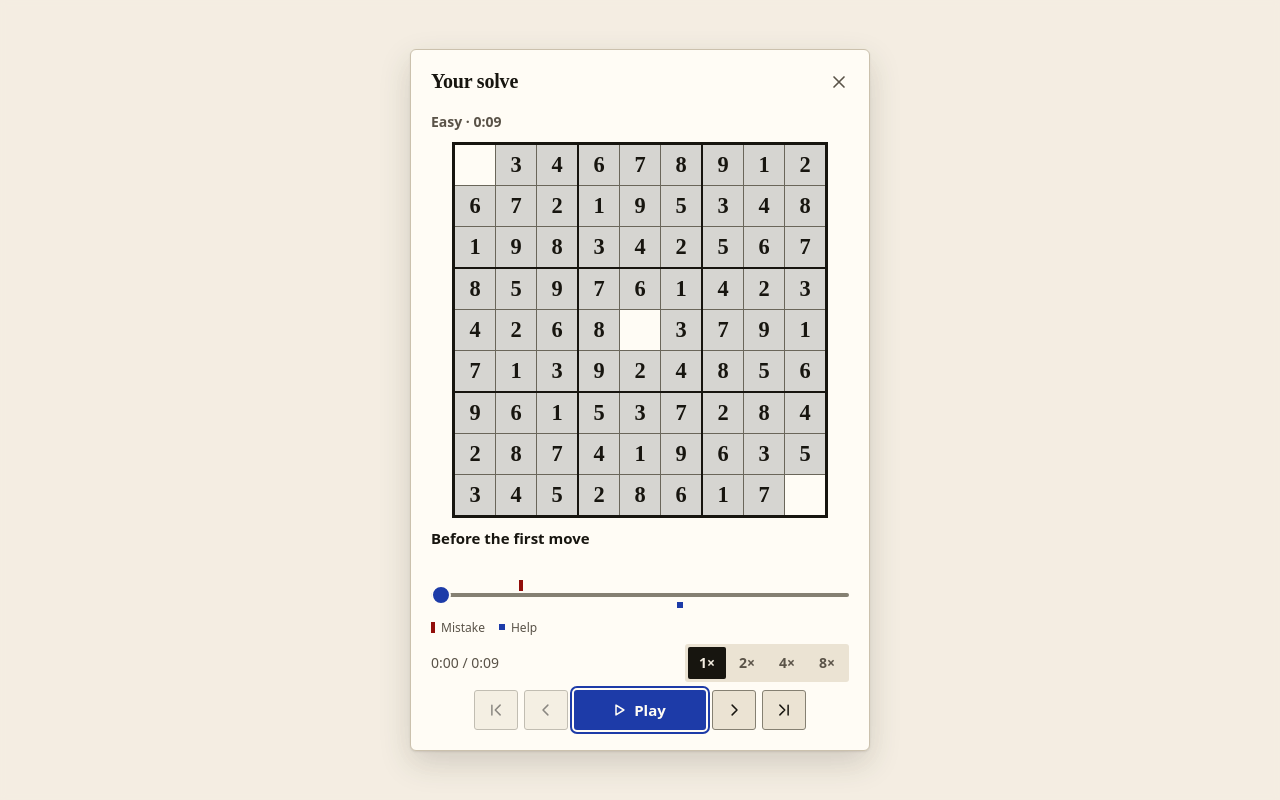
Test case: PlaybackDialog › tells the scrubber’s place as the move and its time
The width and height of the screenshot is (1280, 800).
Set the slider named "Move" to "3" at (680,595), box [431,577,849,613]
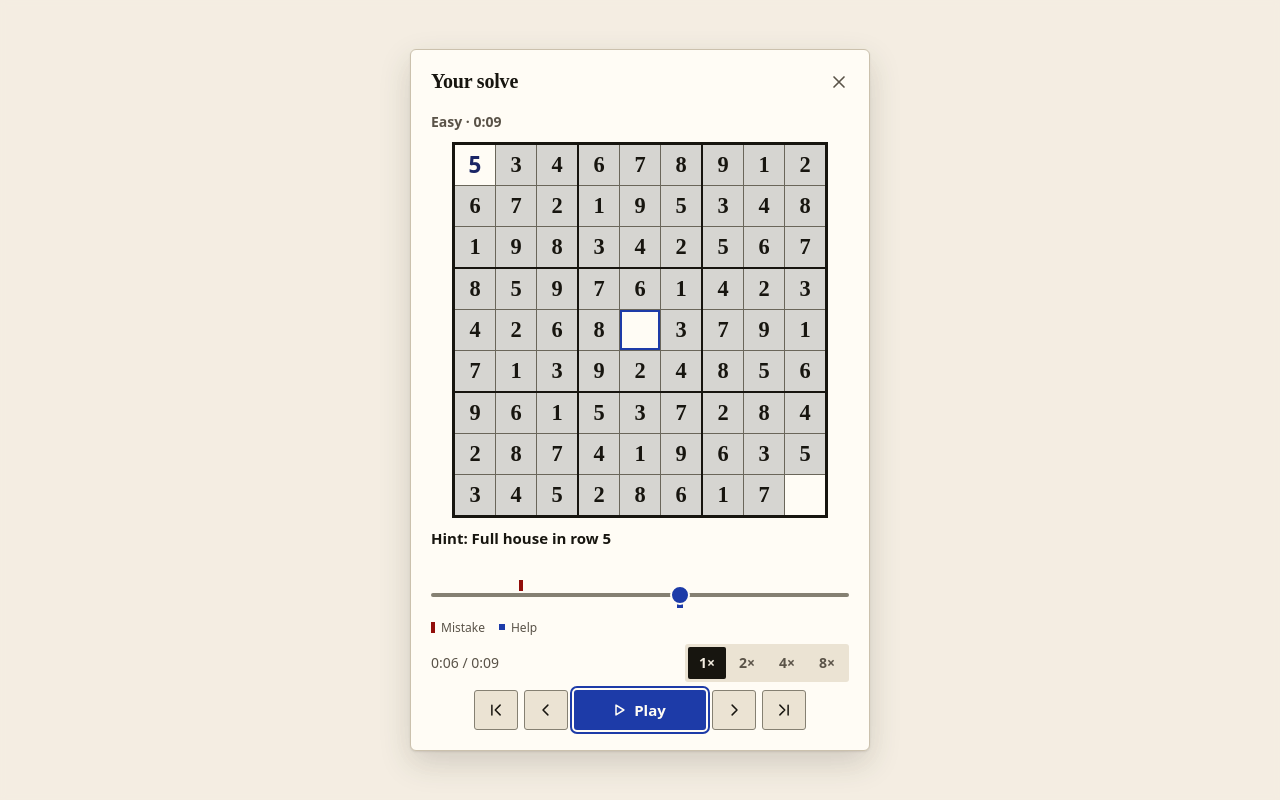
Result: the text "Hint: Full house in row 5" is shown at [431,528,611,548]
